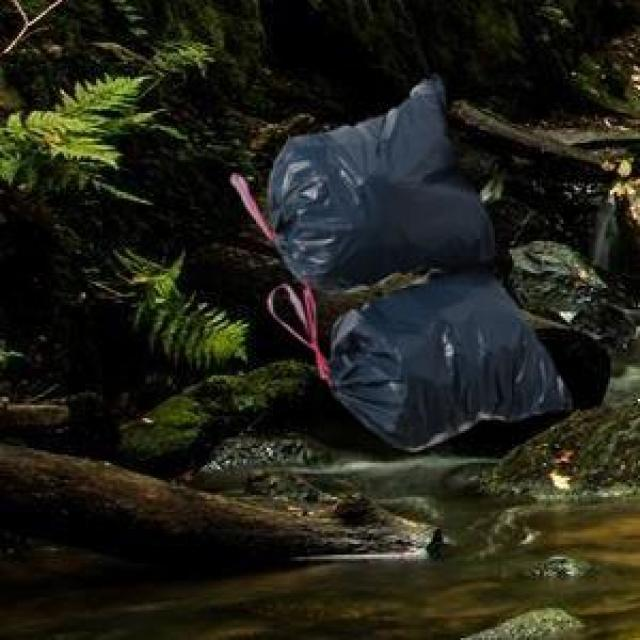waste: (245, 76, 500, 274), (292, 278, 572, 446)
